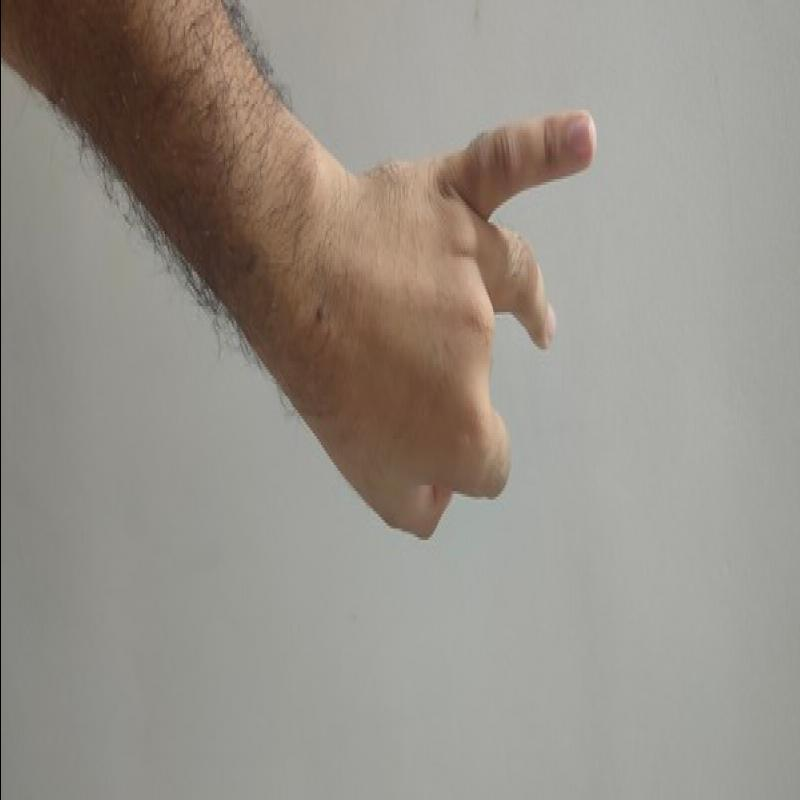Katakam: (329, 102, 611, 551)
